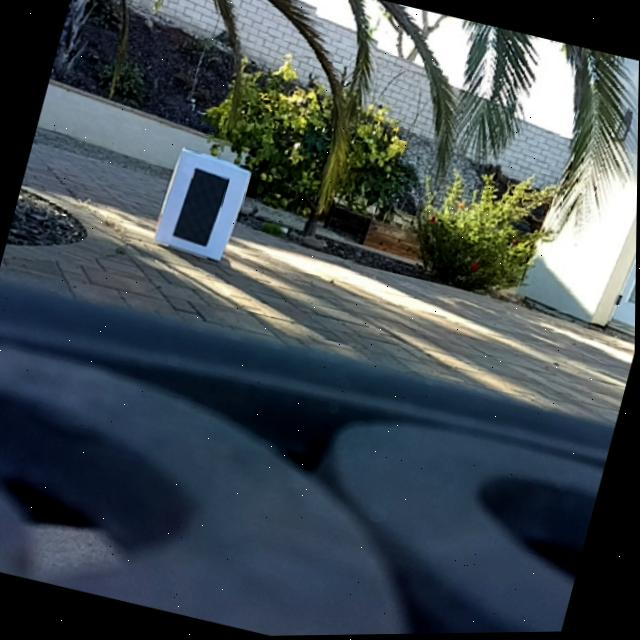led: (173, 165, 231, 249)
